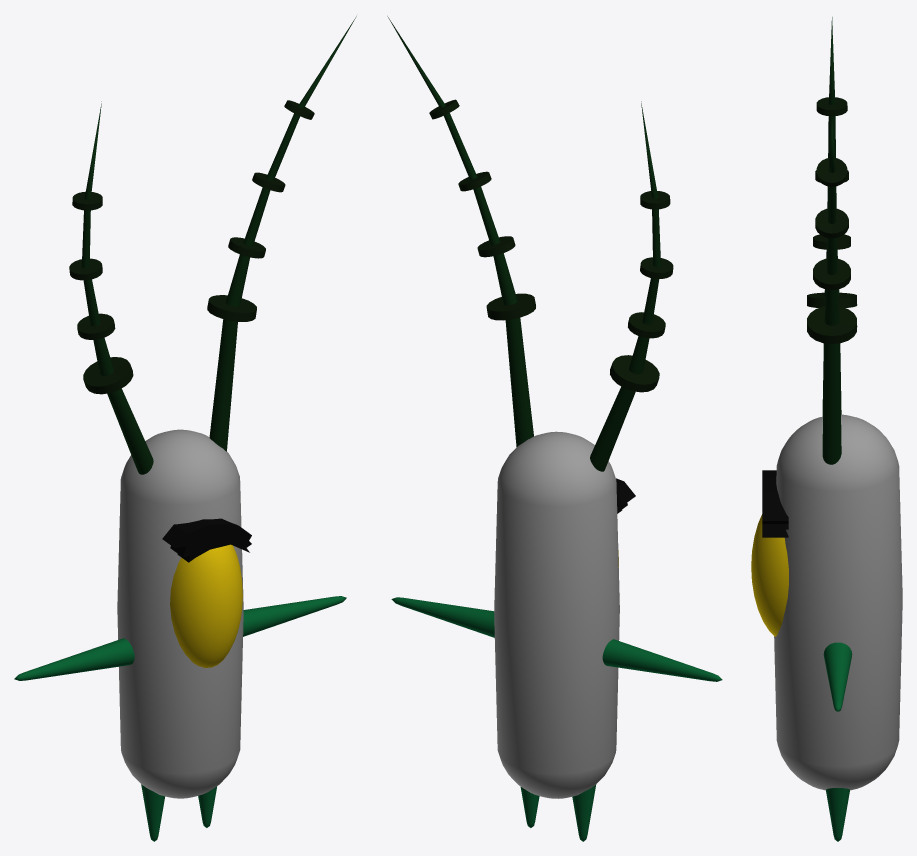
Rendered from Plankton.fbx.
3 renders of one model, left to right at view 1: azimuth 30°, elevation 25°; view 2: azimuth 150°, elevation 25°; view 3: azimuth 270°, elevation 25°, orthographic. The views are drawn at different scales.
Visible parts, largest first — view 1: node_id11 (×6); view 2: node_id11 (×4); view 3: node_id11 (×6).
Boxes of the visible parts, x1,y1,x2,y2 form: node_id11 (×6): [14, 16, 356, 841]; node_id11 (×4): [387, 16, 722, 841]; node_id11 (×6): [751, 17, 902, 841].
Bounding box in the file's own units: 0.234 × 0.512 × 0.088.
